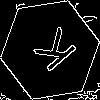K: (25, 25, 78, 81)
